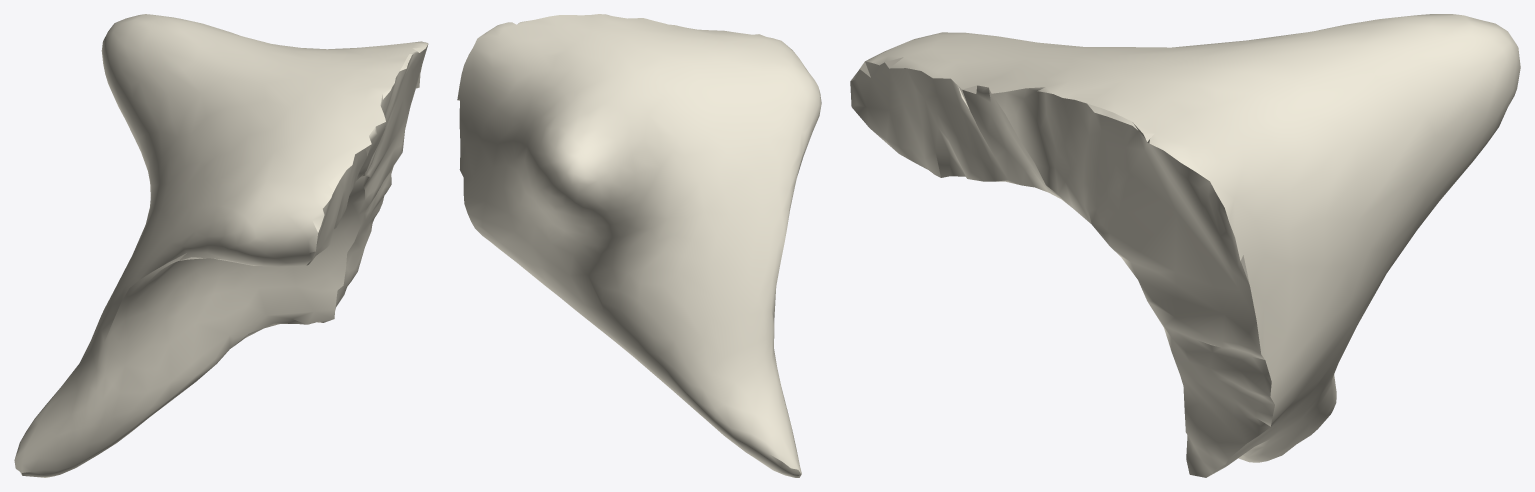
The model's file is fma54701_mm2090m.glb.
The picture shows the model from 3 angles, left to right: view 1: azimuth 30°, elevation 25°; view 2: azimuth 150°, elevation 25°; view 3: azimuth 270°, elevation 25°; orthographic projection. The views are drawn at different scales.
Parts seen in each view (by area): view 1: FMA54701_MM2090M; view 2: FMA54701_MM2090M; view 3: FMA54701_MM2090M.
Boxes of the visible parts, x1,y1,x2,y2 form: FMA54701_MM2090M: [14, 14, 428, 477]; FMA54701_MM2090M: [457, 14, 821, 477]; FMA54701_MM2090M: [850, 14, 1520, 477].
Bounding box in the file's own units: 0.00312 × 0.00292 × 0.00315.
